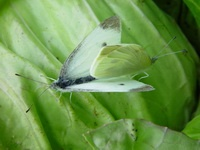insect: (50, 16, 154, 91)
